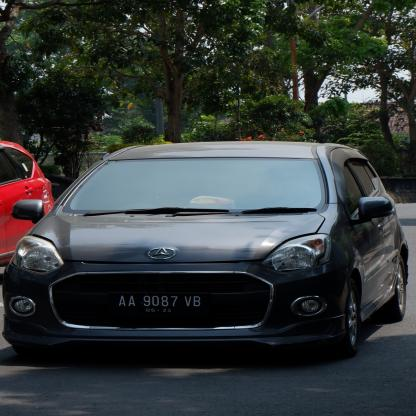Plat-Nomor: (104, 289, 208, 319)
